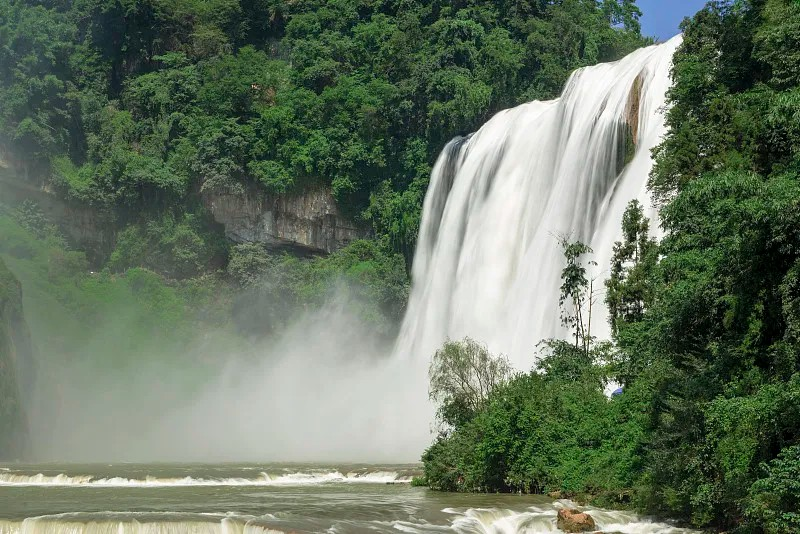Huangguoshu: (392, 34, 672, 460)
